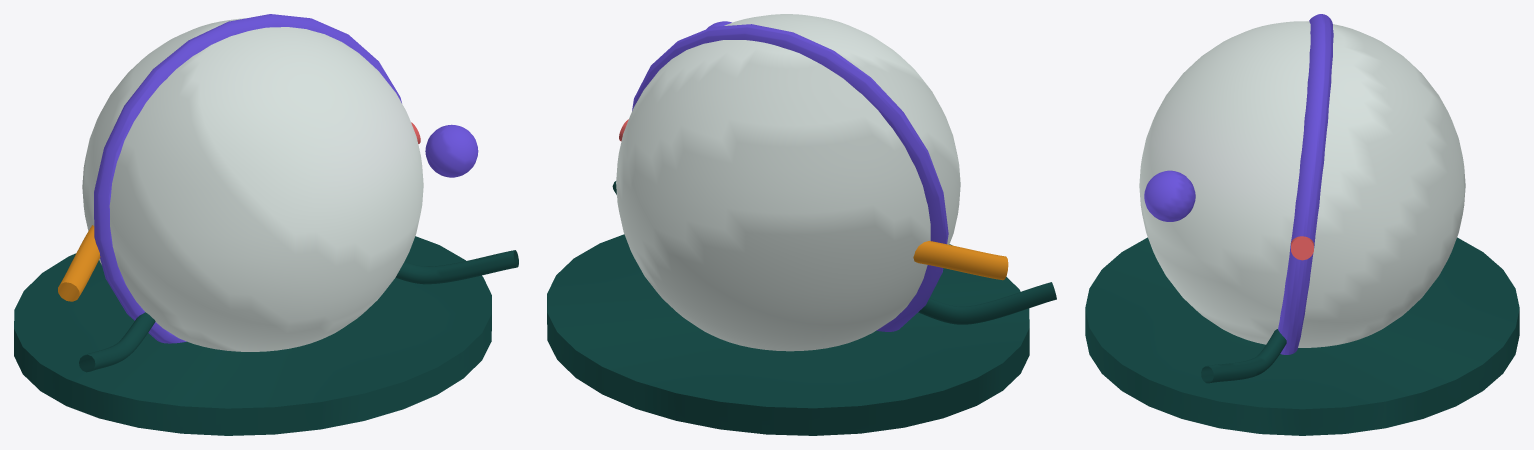
The model's file is 0173_人体图鉴_细胞.glb.
3 views of the same model, side by side, from view 1: azimuth 30°, elevation 25°; view 2: azimuth 150°, elevation 25°; view 3: azimuth 270°, elevation 25° (orthographic). The views are drawn at different scales.
Parts seen in each view (by area): view 1: card_0173; view 2: card_0173; view 3: card_0173.
Part boxes in pixels (bbox=[...]): card_0173: bbox=[14, 14, 518, 435]; card_0173: bbox=[547, 14, 1056, 435]; card_0173: bbox=[1085, 14, 1519, 435].
Size of the model in its own units: 1.43 by 1 by 1.25.
